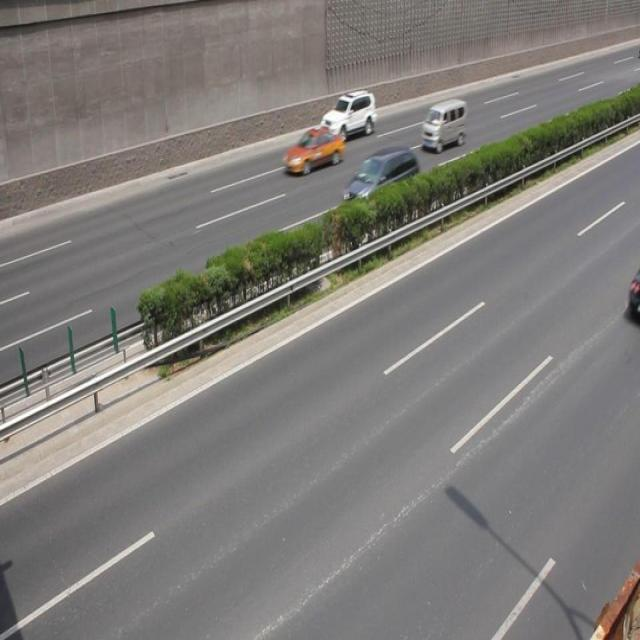car: (341, 147, 420, 219), (281, 127, 343, 175), (319, 91, 374, 142)
truck: (421, 100, 464, 151)
